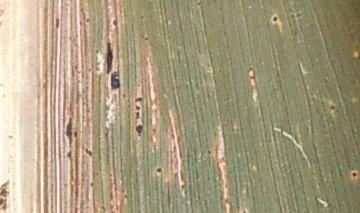tarspot: (97, 36, 115, 75), (61, 115, 77, 145), (106, 67, 123, 93), (131, 121, 147, 139), (266, 11, 282, 24), (52, 13, 63, 31), (80, 143, 94, 157), (109, 14, 120, 31), (63, 148, 76, 162), (153, 163, 166, 176), (121, 190, 133, 201), (131, 95, 144, 105), (86, 178, 97, 189), (202, 147, 215, 156), (129, 113, 145, 120), (351, 165, 358, 181), (131, 101, 142, 111), (83, 15, 92, 25), (329, 100, 336, 112)
